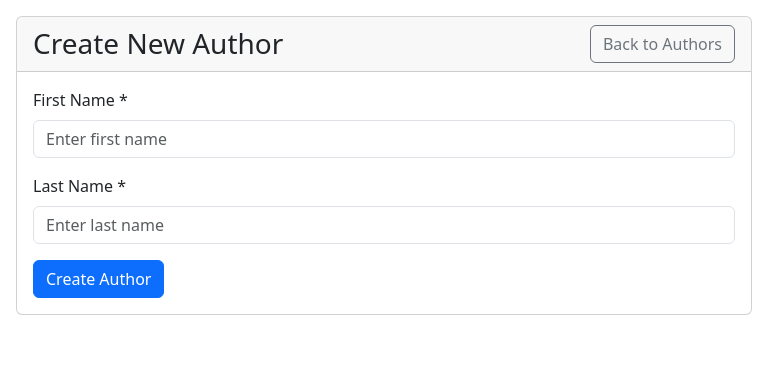
AuthorCreate › does not submit when form is invalid
Step 1. Click the button "Create Author" → [99, 279], box [33, 260, 164, 298]
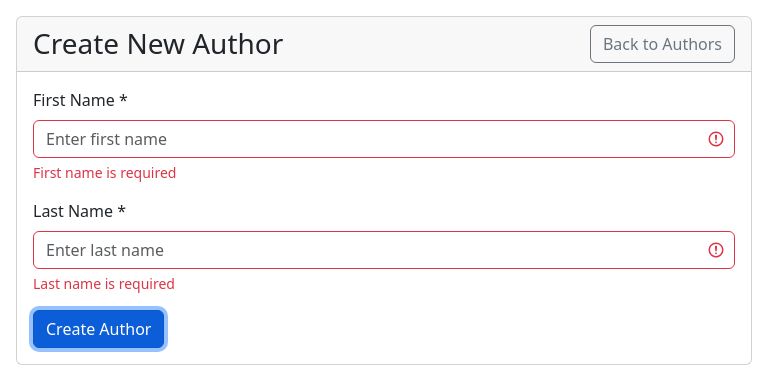
Result: the text "First name is required" is shown at [33, 163, 176, 182]
Result: the text "Last name is required" is shown at [33, 274, 175, 293]
